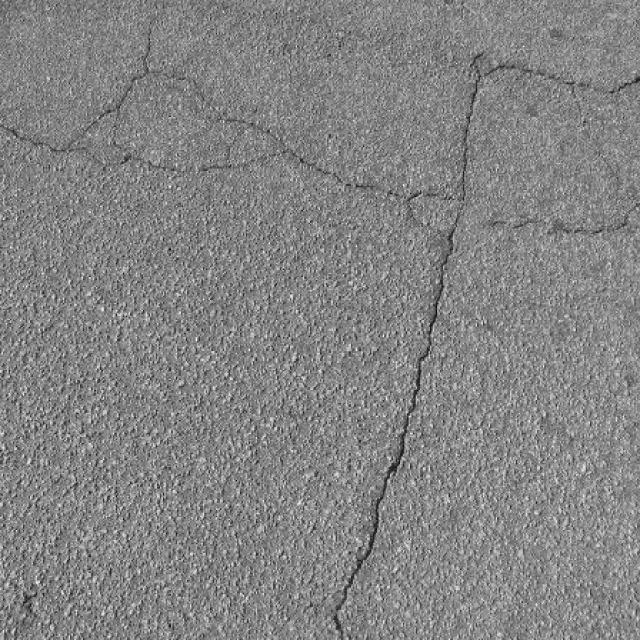Crack: (1, 20, 640, 639)
